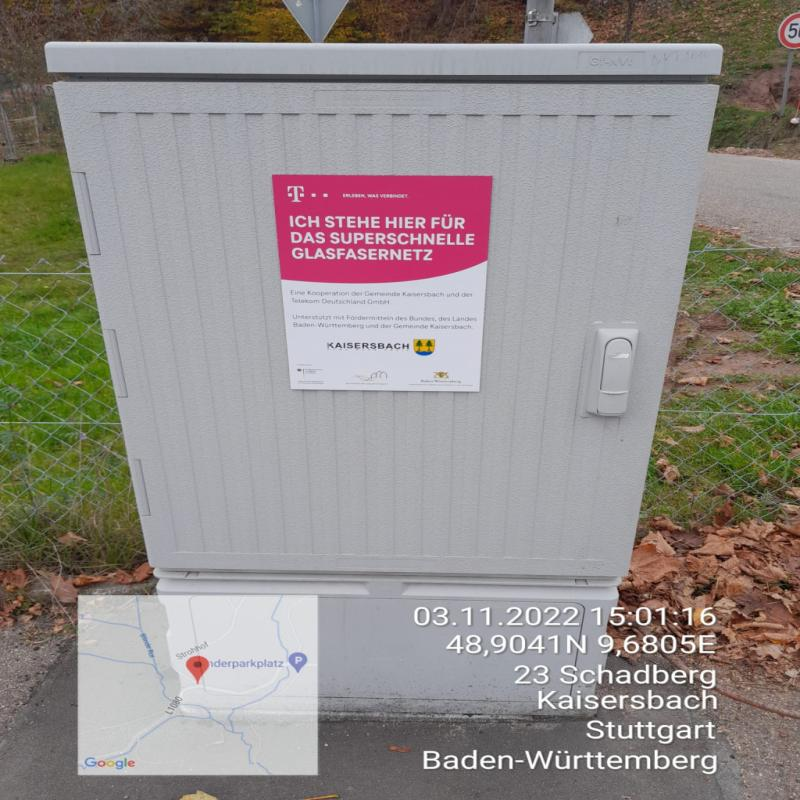NT-Gehause: (58, 43, 727, 573)
Steaker: (273, 169, 495, 395)
